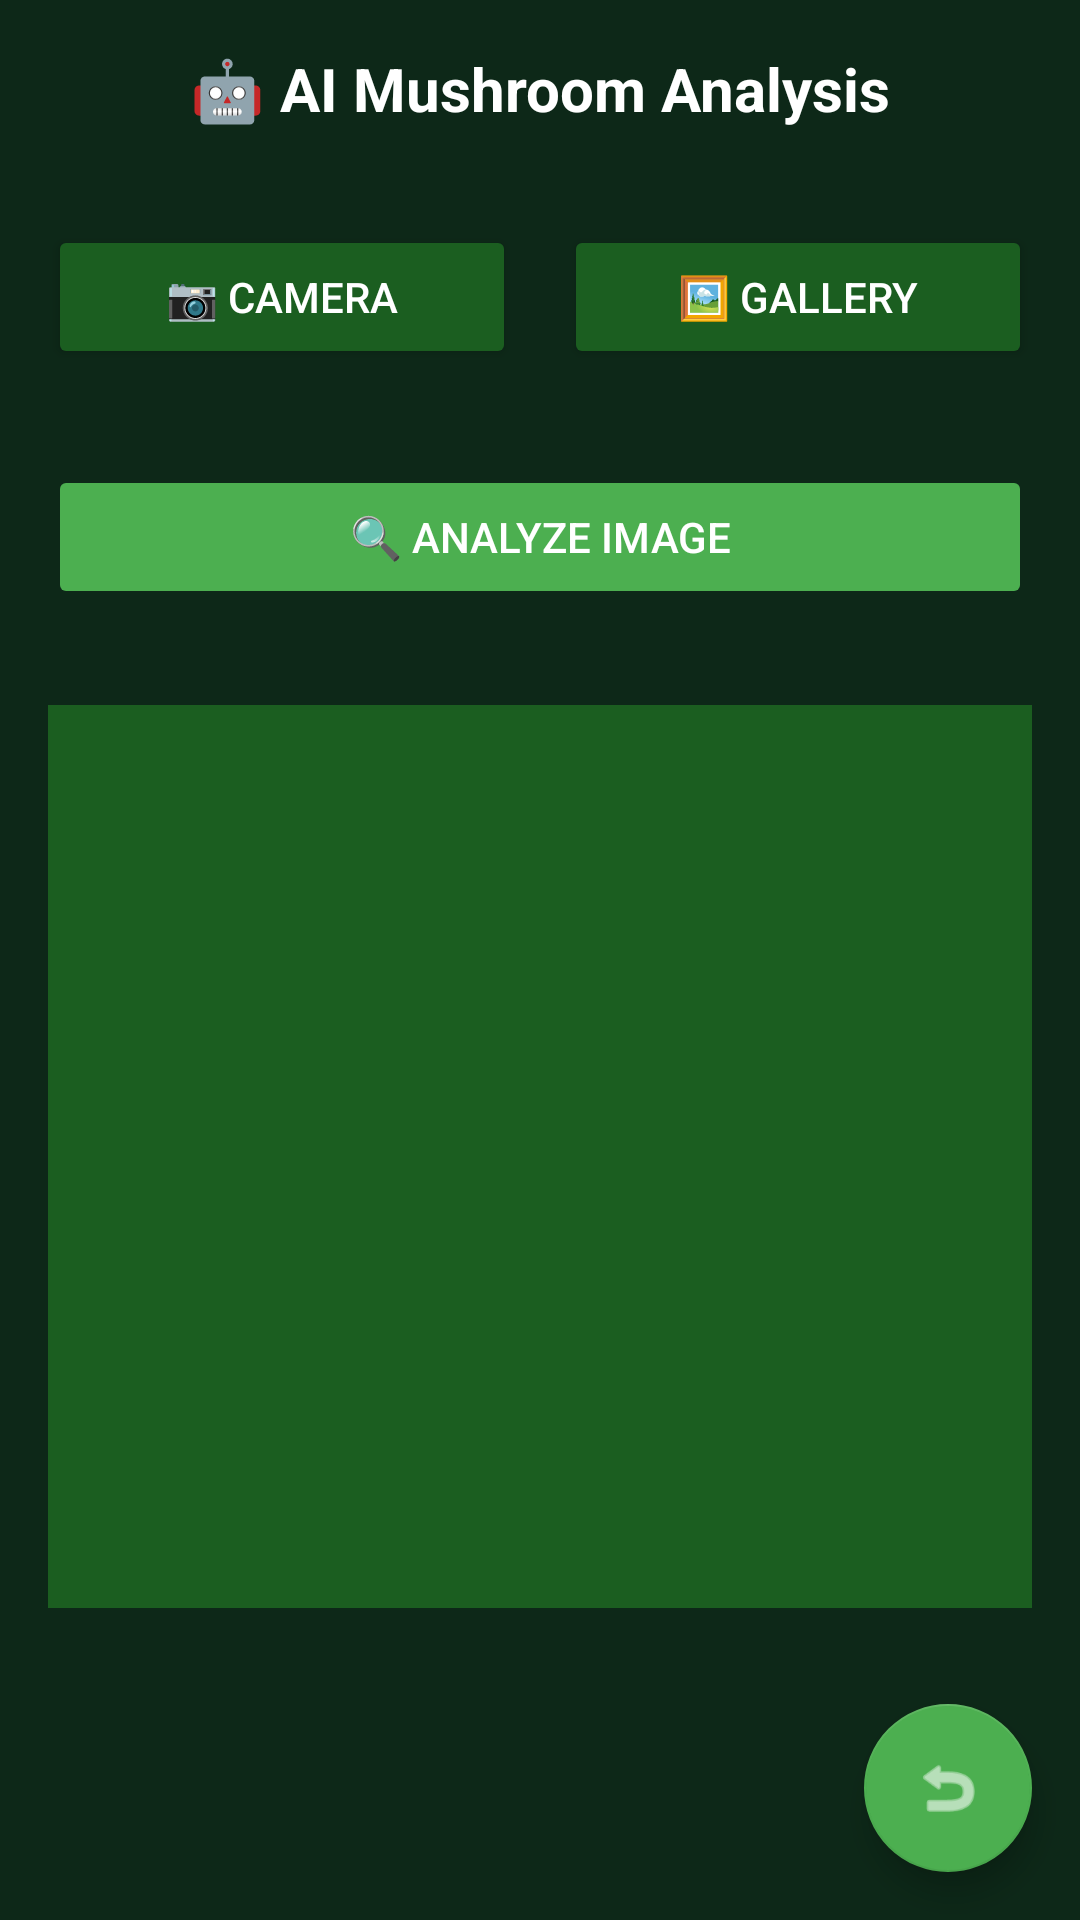

Icons on this 1080x1920 Android screen, each with the point to tap as [x,y]:
revert: [948,1788]
